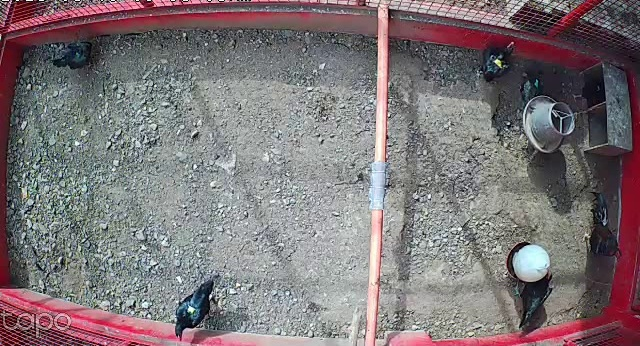Chicken: (510, 264, 558, 331), (170, 275, 218, 340), (476, 40, 518, 85), (52, 38, 106, 72), (516, 68, 546, 113)
Rooster: (576, 189, 625, 262)
Saddle_Color_Yellow: (490, 54, 504, 69), (186, 306, 198, 316)
